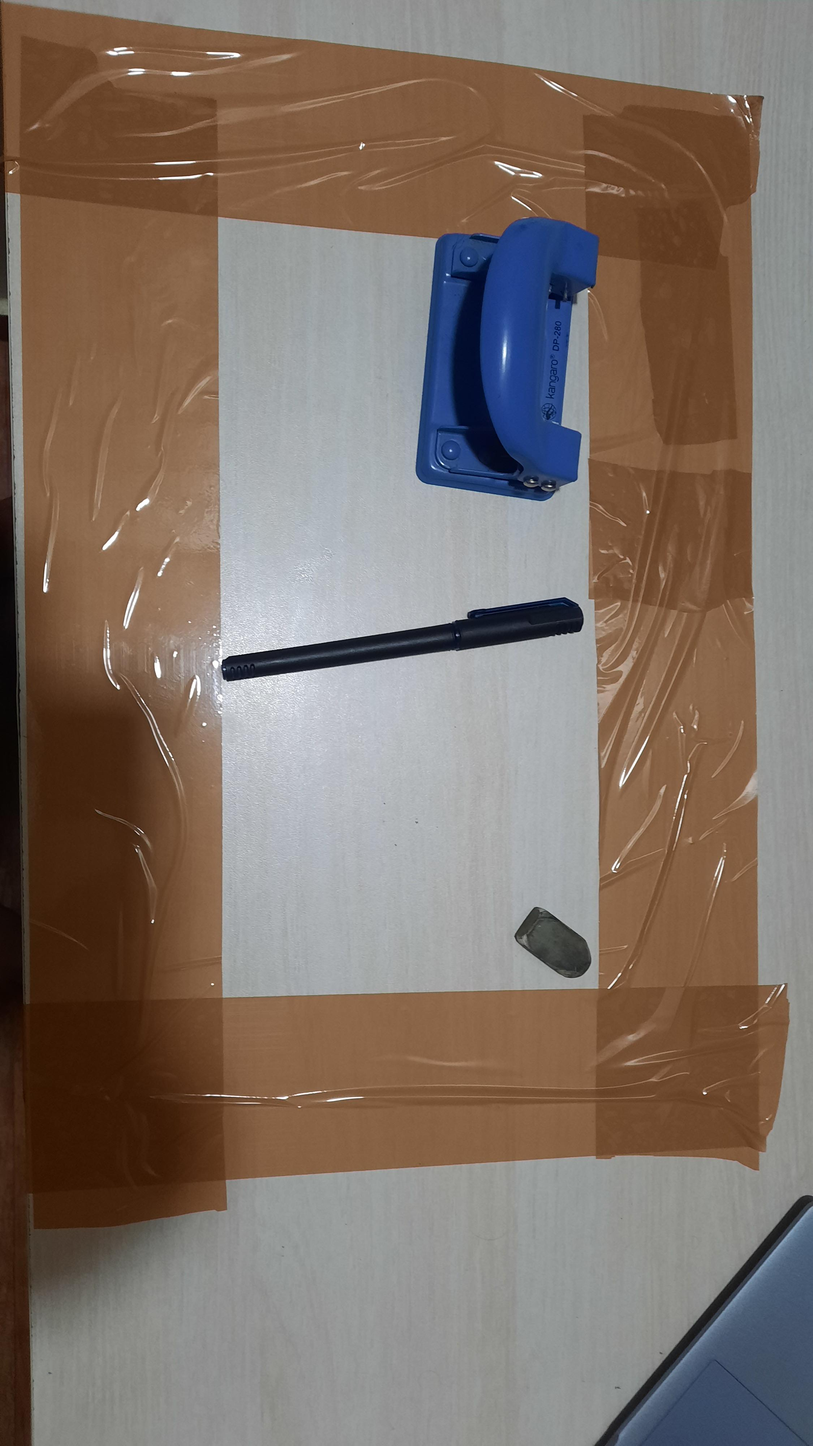Eraser: (514, 907, 592, 978)
Pen: (221, 597, 584, 681)
Punch: (416, 218, 600, 501)
